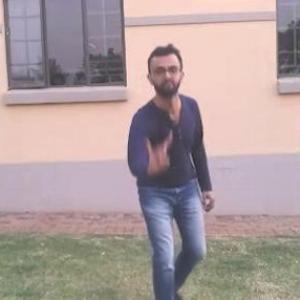takeoff-hand: (134, 123, 180, 181)
